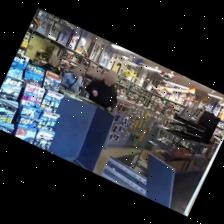person: (85, 71, 117, 112), (61, 66, 83, 93), (41, 55, 59, 75)
